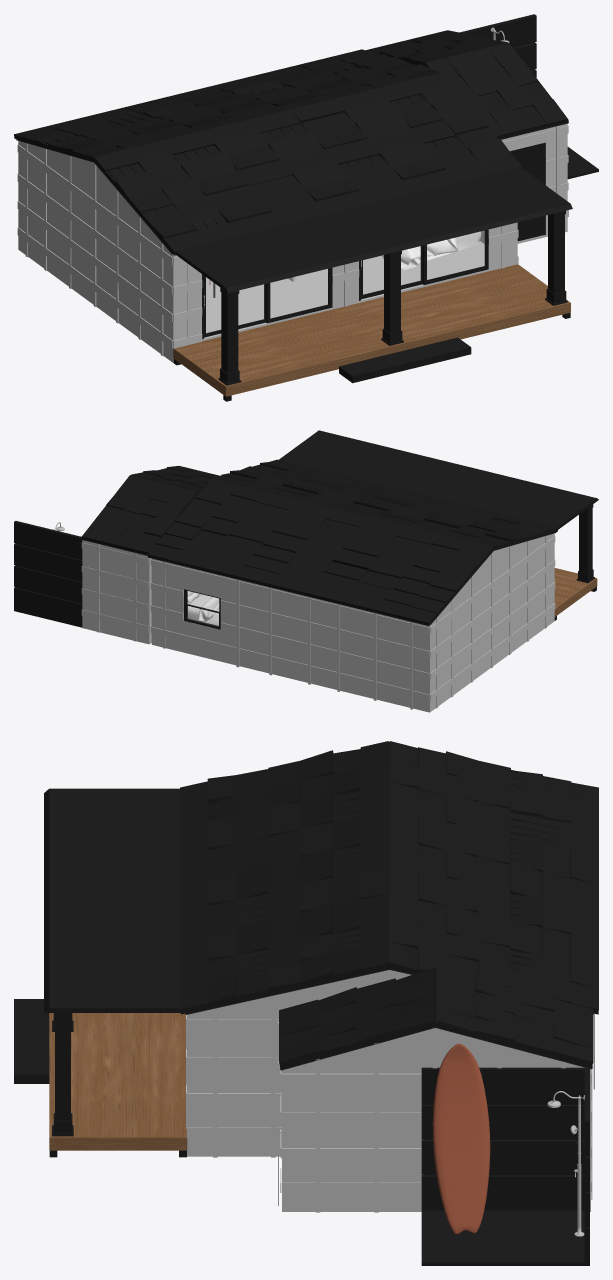
The model's file is 800Sqftbench.glb.
The picture shows the model from 3 angles, top to bottom: view 1: azimuth 30°, elevation 25°; view 2: azimuth 150°, elevation 25°; view 3: azimuth 270°, elevation 25°; orthographic projection. The views are drawn at different scales.
Visible parts, largest first — view 1: Asphalt_Roof, Wooden_Base, Frontal_Roof, Outer_Wall, Asphalt_SIde_Room_Roof, Horizontal_Wall_Pattern, House_Base, Pillars, Vertical_Wall_Pattern, Wooden_Step, Shower_BAse, Glass01 (+10 smaller); view 2: Asphalt_Roof, Outer_Wall, Frontal_Roof, Horizontal_Wall_Pattern, Asphalt_SIde_Room_Roof, Shower_BAse, Side_Room_Wall, Vertical_Wall_Pattern, Horizontal_Wall_Pattern_For_Side_Room, Wooden_Base, Metal_Roof_Sheet, Pillars (+4 smaller); view 3: Asphalt_Roof, Frontal_Roof, Shower_BAse, Side_Room_Wall, Asphalt_SIde_Room_Roof, Wooden_Base, Outer_Wall, Board, Horizontal_Wall_Pattern_For_Side_Room, Horizontal_Wall_Pattern, Metal_Roof_Sheet, Wooden_Step (+6 smaller).
Part boxes in pixels (x1,y1,x2,y2): Asphalt_Roof: (14,49,522,255); Wooden_Base: (173,264,570,396); Frontal_Roof: (175,167,572,292); Outer_Wall: (18,141,517,362); Asphalt_SIde_Room_Roof: (366,30,567,139); Horizontal_Wall_Pattern: (17,144,518,348); House_Base: (206,240,484,333); Pillars: (218,210,567,385); Vertical_Wall_Pattern: (25,143,504,356); Wooden_Step: (339,337,471,383); Shower_BAse: (459,14,598,179); Glass01: (270,269,327,317); Asphalt_Roof: (147,459,557,625); Outer_Wall: (151,533,554,712); Frontal_Roof: (279,430,598,529); Horizontal_Wall_Pattern: (151,536,555,700); Asphalt_SIde_Room_Roof: (82,466,219,555); Shower_BAse: (14,521,82,627); Side_Room_Wall: (82,540,151,644); Vertical_Wall_Pattern: (163,535,547,709); Horizontal_Wall_Pattern_For_Side_Room: (81,542,151,632); Wooden_Base: (554,568,597,616); Metal_Roof_Sheet: (187,472,535,618); Pillars: (576,504,594,583); Asphalt_Roof: (180,741,598,1014); Frontal_Roof: (44,788,180,1012); Shower_BAse: (421,1067,589,1265); Side_Room_Wall: (282,1028,590,1211); Asphalt_SIde_Room_Roof: (279,967,593,1068); Wooden_Base: (49,1013,187,1150); Outer_Wall: (187,970,411,1156); Board: (432,1043,490,1234); Horizontal_Wall_Pattern_For_Side_Room: (280,1069,591,1192); Horizontal_Wall_Pattern: (186,1015,281,1137); Metal_Roof_Sheet: (208,741,586,974); Wooden_Step: (14,999,49,1083).
Bounding box in the file's own units: 0.1472 × 0.0407 × 0.1104.
9 materials, 1 textured.
